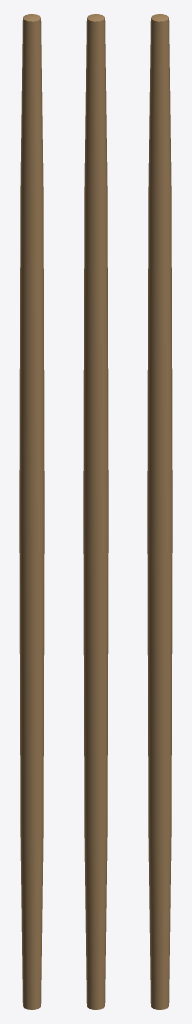
File: bo-staff.glb
3 renders of one model, left to right at view 1: azimuth 30°, elevation 25°; view 2: azimuth 150°, elevation 25°; view 3: azimuth 330°, elevation 25°, orthographic.
Visible parts, largest first — view 1: bo-staff; view 2: bo-staff; view 3: bo-staff.
Part boxes in pixels (left/top/right/bottom): bo-staff: left=19, top=14, right=44, bottom=1009; bo-staff: left=83, top=14, right=108, bottom=1009; bo-staff: left=147, top=14, right=172, bottom=1009.
Bounding box in the file's own units: 0.072 × 3.1 × 0.0685.
